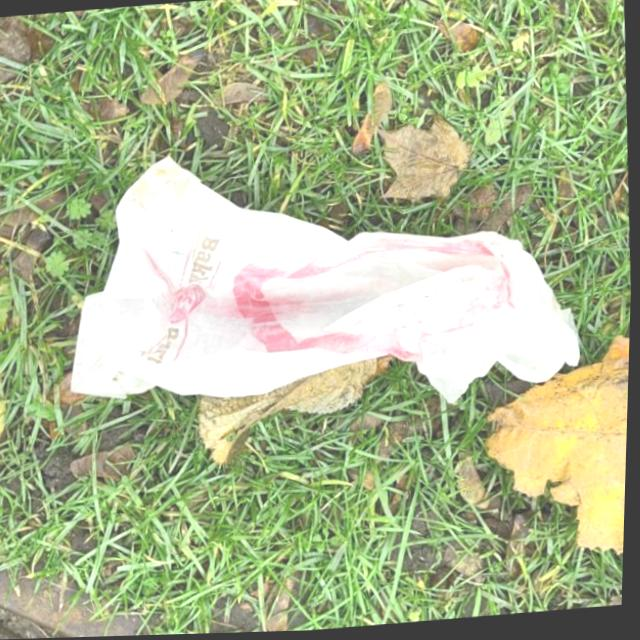Paper: (58, 122, 590, 437)
